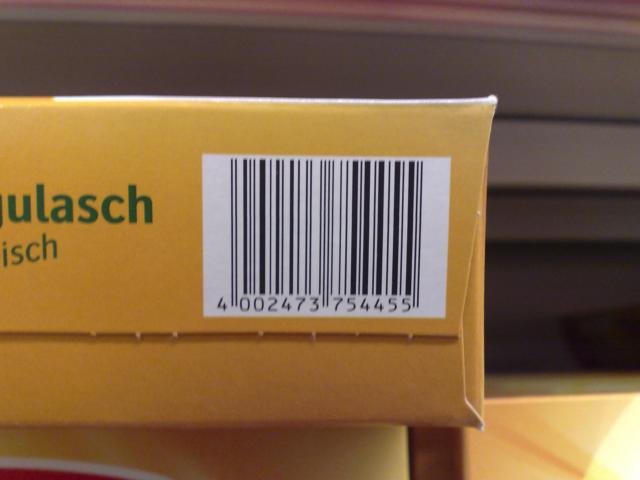Barkod: (227, 157, 423, 296)
